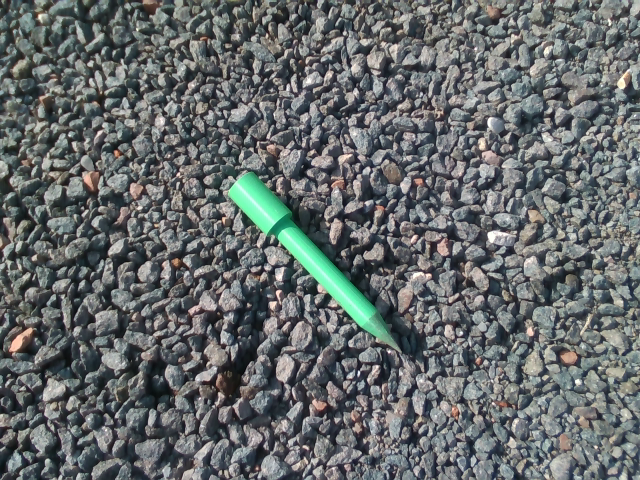Probe: (223, 167, 406, 360)
